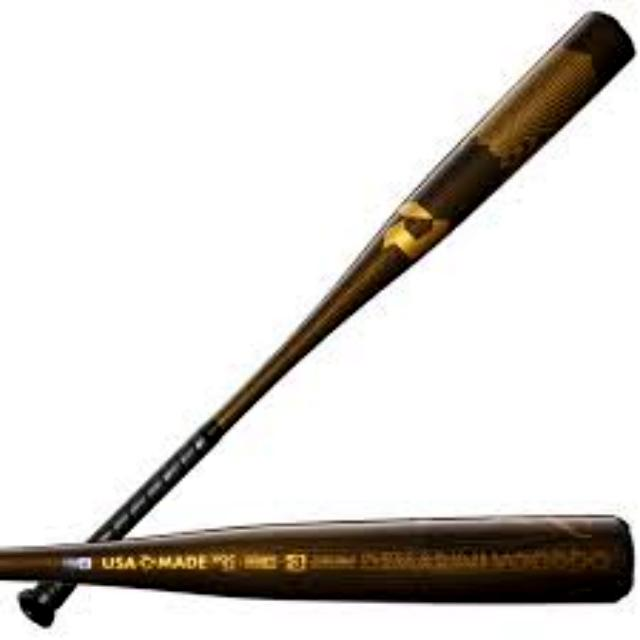baseball bat: (22, 9, 637, 625), (4, 507, 634, 602)
